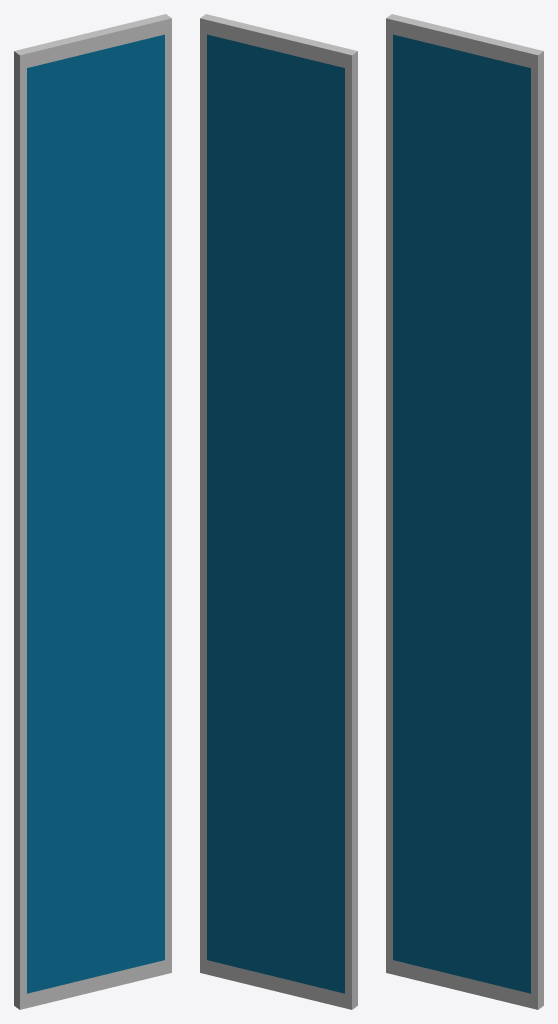
Rendered from MCPTABANIO.fbx.
3 renders of one model, left to right at view 1: azimuth 30°, elevation 25°; view 2: azimuth 150°, elevation 25°; view 3: azimuth 330°, elevation 25°, orthographic.
Parts seen in each view (by area): view 1: MCPTABANIO; view 2: MCPTABANIO; view 3: MCPTABANIO.
Boxes of the visible parts, left/top/right/bottom form: MCPTABANIO: left=14, top=14, right=171, bottom=1009; MCPTABANIO: left=200, top=14, right=357, bottom=1009; MCPTABANIO: left=386, top=14, right=543, bottom=1009.
Bounding box in the file's own units: 30 × 180 × 2.
